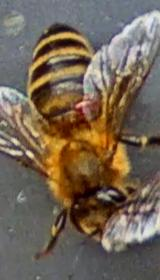varroa_mite: (63, 90, 115, 128)
